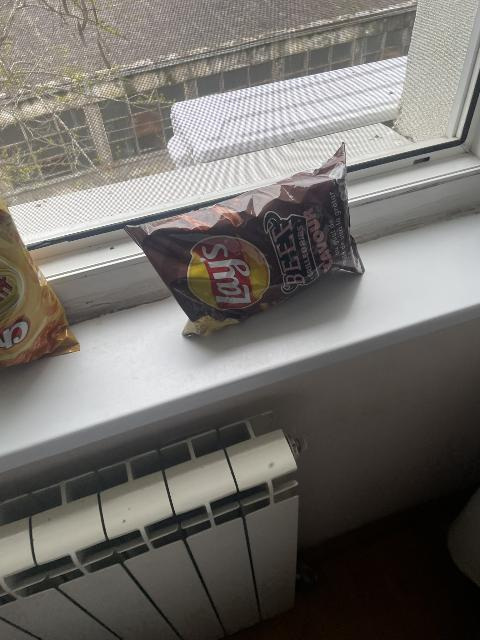Chio Hula Hoops Cheese 70g: (1, 183, 81, 364)
Lays Beef Grilled Ribs 125g: (124, 142, 364, 337)
